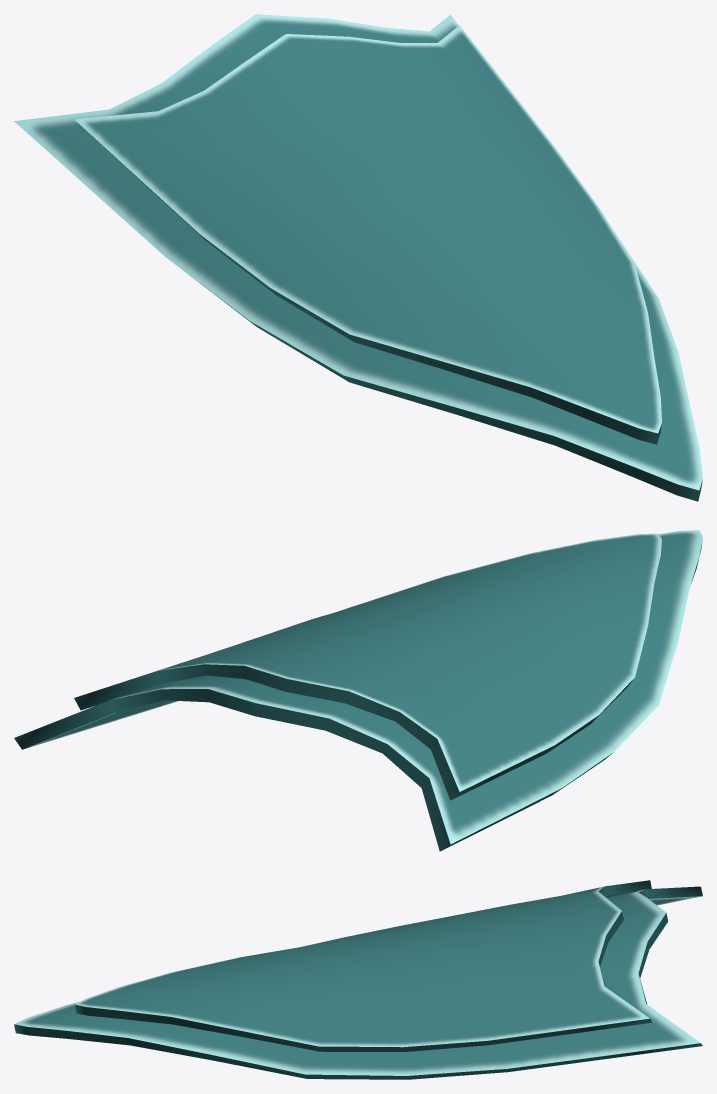
Rendered from shield.FBX.
The picture shows the model from 3 angles, top to bottom: view 1: azimuth 30°, elevation 25°; view 2: azimuth 150°, elevation 25°; view 3: azimuth 270°, elevation 25°; orthographic projection. The views are drawn at different scales.
Visible parts, largest first — view 1: Cylinder001; view 2: Cylinder001; view 3: Cylinder001.
Boxes of the visible parts, x1=… form: Cylinder001: x1=14, y1=14, x2=702, y2=501; Cylinder001: x1=14, y1=530, x2=702, y2=851; Cylinder001: x1=14, y1=880, x2=702, y2=1079.
Size of the model in its own units: 189 by 68.81 by 352.
